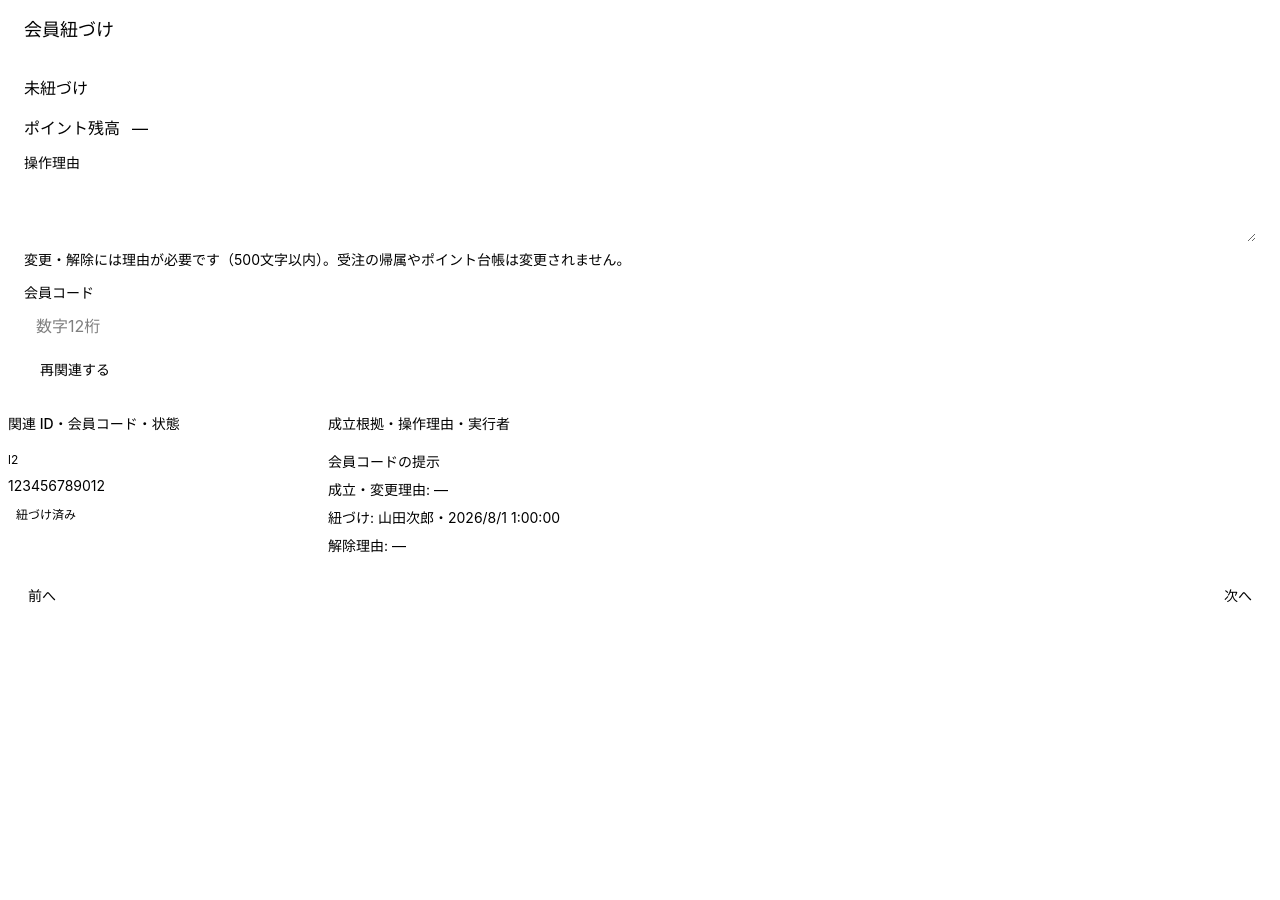
Test: MemberLinkSection › ページ送りで次のページの履歴を取り直すこと
Click the button "次へ": {"x": 1238, "y": 596} [1212, 580, 1264, 612]
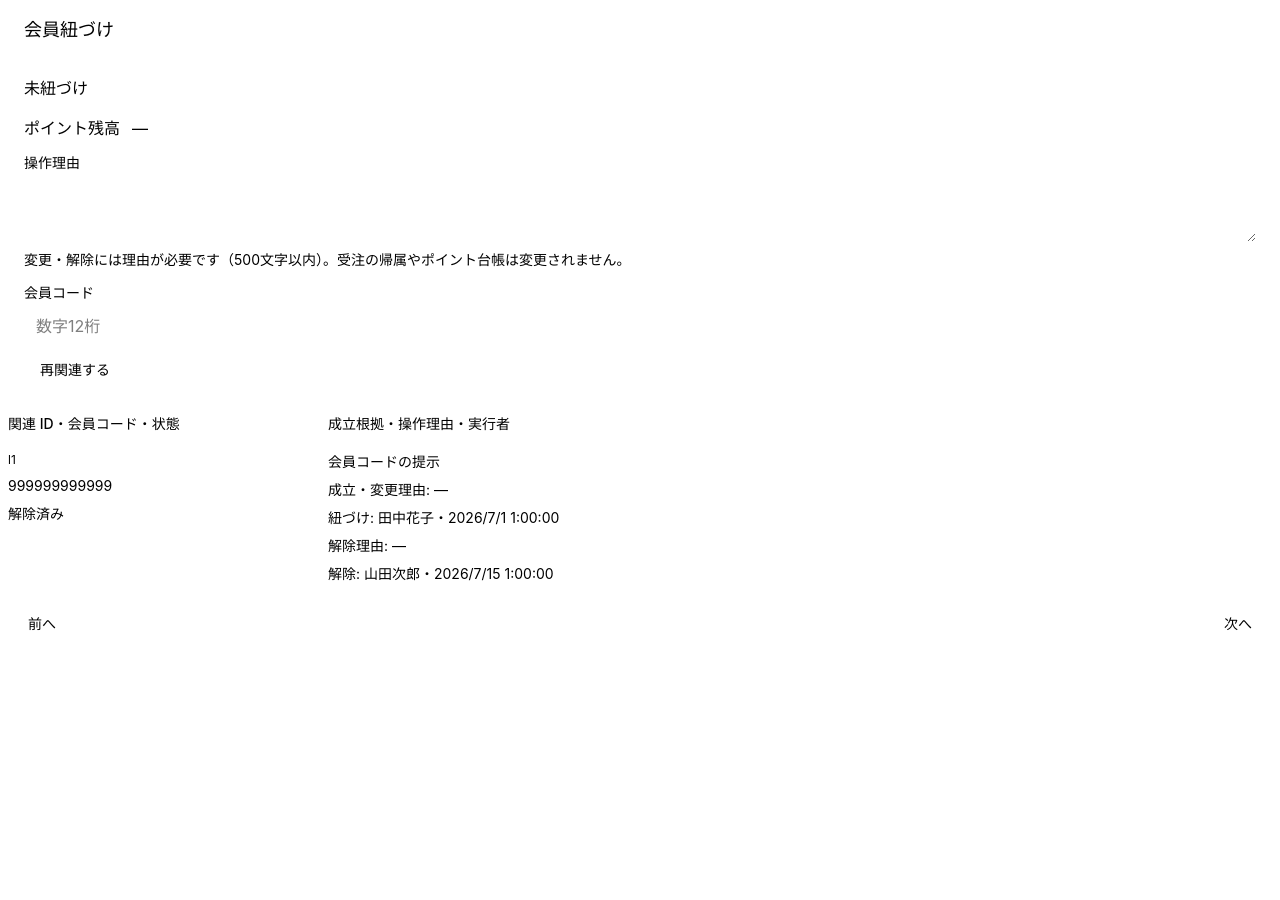
expect the text "999999999999" is shown: met, box [8, 477, 112, 494]
expect the button "次へ" is disabled: met, box [1212, 608, 1264, 640]
